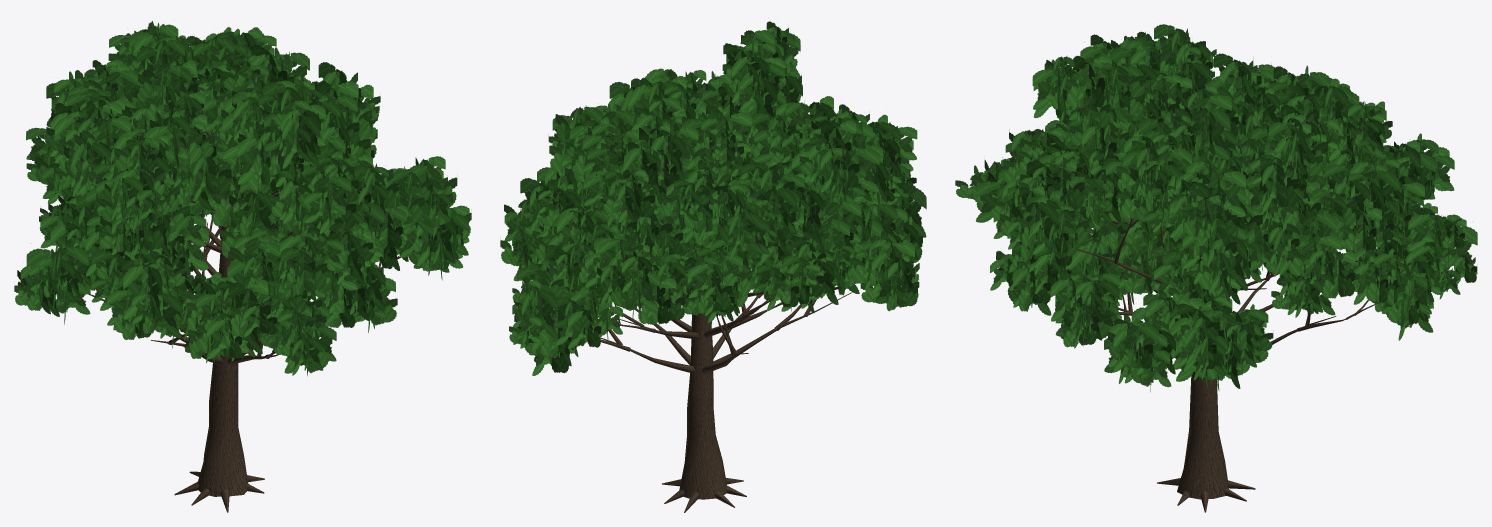
File: oak_lod2.glb
3 views of the same model, side by side, from view 1: azimuth 30°, elevation 25°; view 2: azimuth 150°, elevation 25°; view 3: azimuth 270°, elevation 25° (orthographic). The views are drawn at different scales.
Parts seen in each view (by area): view 1: oak_lod0_leaves, oak_lod0_wood; view 2: oak_lod0_leaves, oak_lod0_wood; view 3: oak_lod0_leaves, oak_lod0_wood.
Boxes of the visible parts, <box> form: oak_lod0_leaves: <box>14,21,471,376</box>; oak_lod0_wood: <box>88,112,414,512</box>; oak_lod0_leaves: <box>500,21,926,375</box>; oak_lod0_wood: <box>550,86,857,512</box>; oak_lod0_leaves: <box>955,24,1477,391</box>; oak_lod0_wood: <box>1076,99,1405,512</box>.
Size of the model in its own units: 22.01 by 21.88 by 23.49.
Materials: 2 (2 with a texture image).
